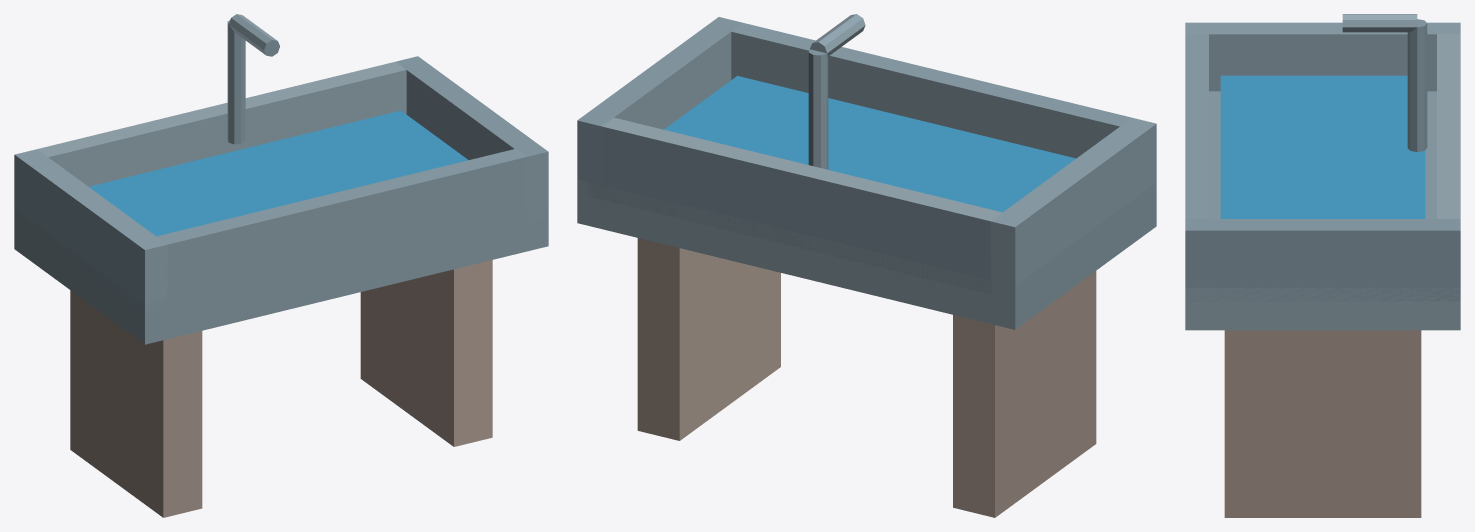
File: A_Sink.fbx
3 renders of one model, left to right at view 1: azimuth 30°, elevation 25°; view 2: azimuth 150°, elevation 25°; view 3: azimuth 270°, elevation 25°, orthographic. The views are drawn at different scales.
Visible parts, largest first — view 1: A_Sink.003; view 2: A_Sink.003; view 3: A_Sink.003.
Boxes of the visible parts, x1,y1,x2,y2 form: A_Sink.003: (14,14,548,517); A_Sink.003: (577,14,1156,517); A_Sink.003: (1185,14,1460,517).
Bounding box in the file's own units: 1.25 × 1.17 × 0.7.
